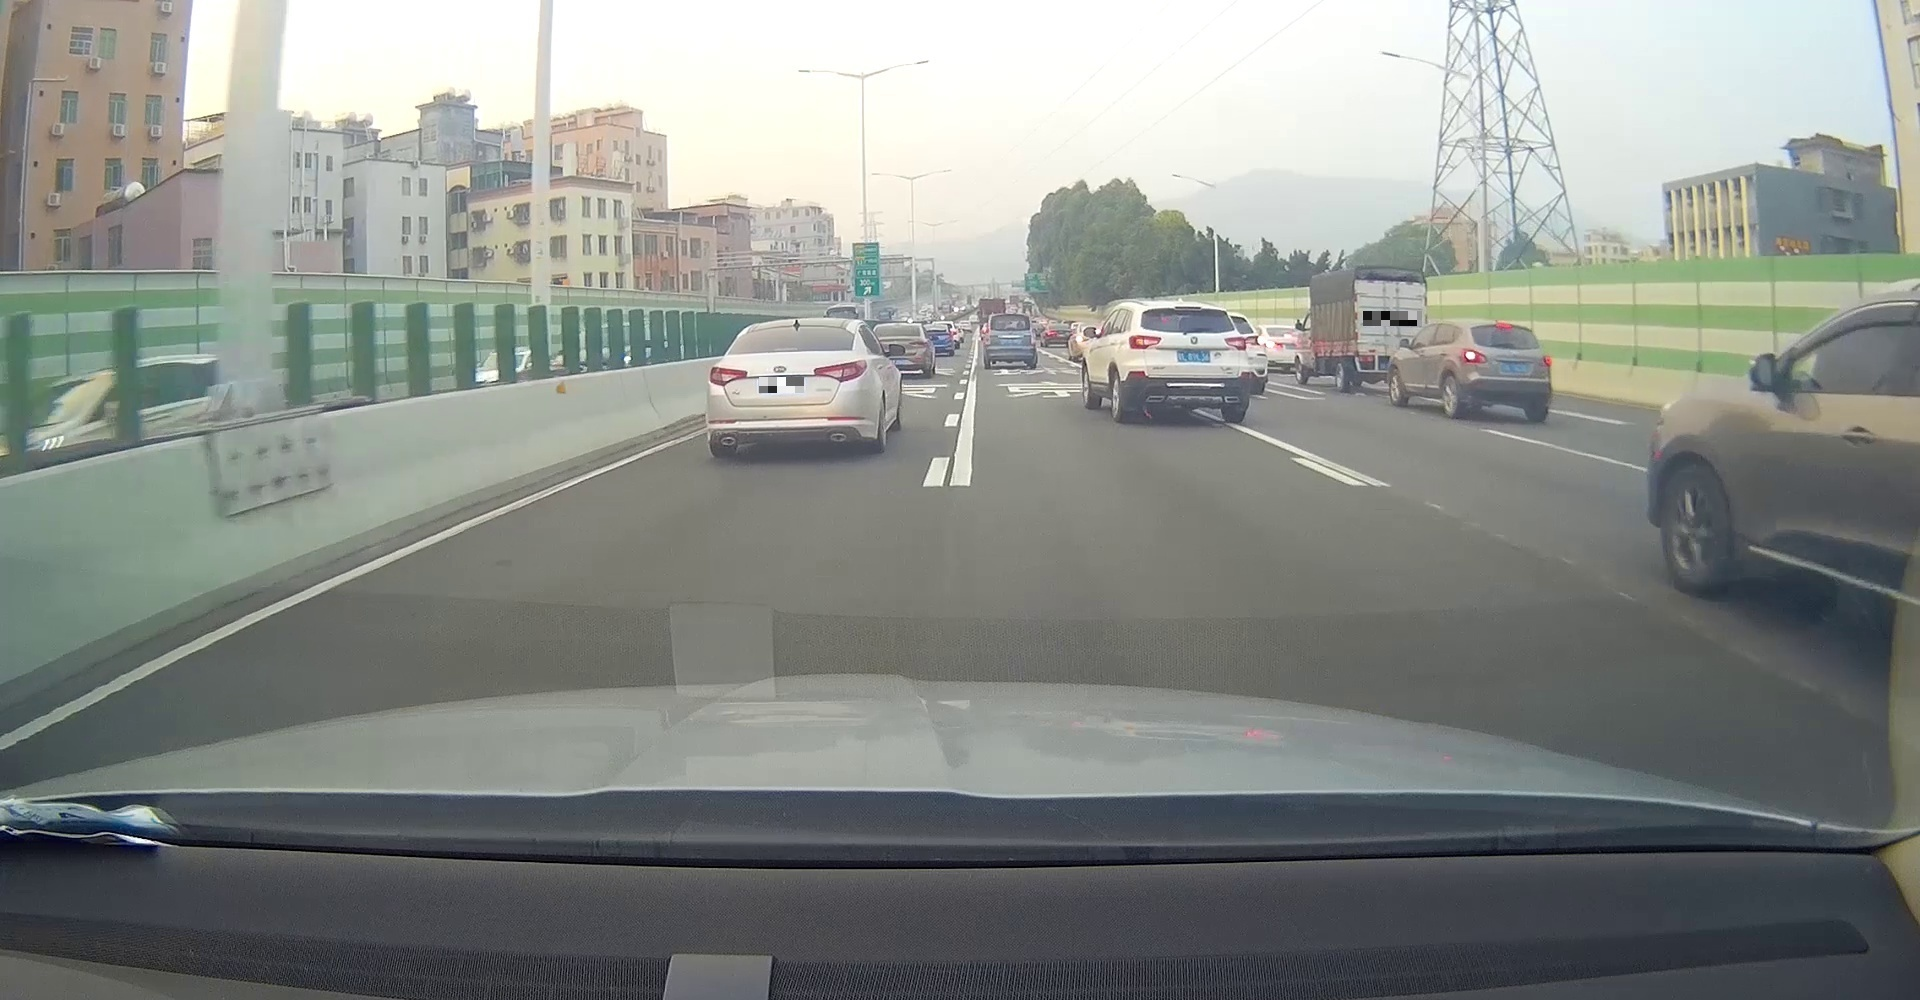L_light: (709, 365, 749, 386), (1129, 334, 1161, 350), (1462, 349, 1487, 363), (984, 327, 990, 345)
R_light: (813, 360, 867, 382), (1224, 336, 1247, 350), (1538, 355, 1550, 367), (1030, 327, 1036, 343)
T_light: (1175, 305, 1201, 311), (773, 346, 799, 352), (1495, 324, 1512, 329), (1004, 313, 1017, 319)
day-left: (1128, 301, 1250, 421), (1460, 320, 1550, 421)
day-no: (706, 317, 875, 457), (983, 313, 1037, 369)
plate_1: (759, 377, 804, 393)
plate_2: (1363, 311, 1422, 326)
